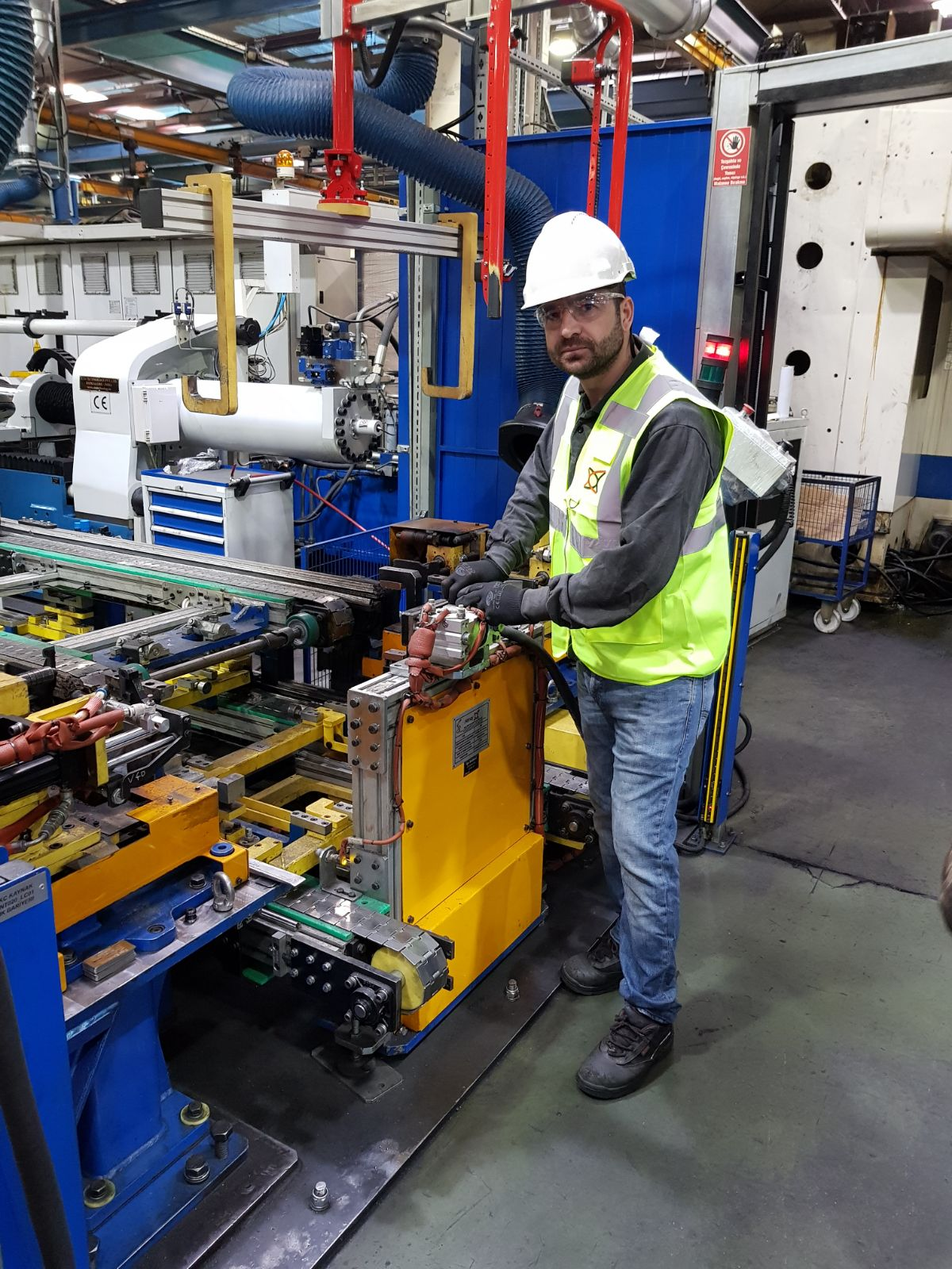safety_helmet: (517, 209, 637, 311)
